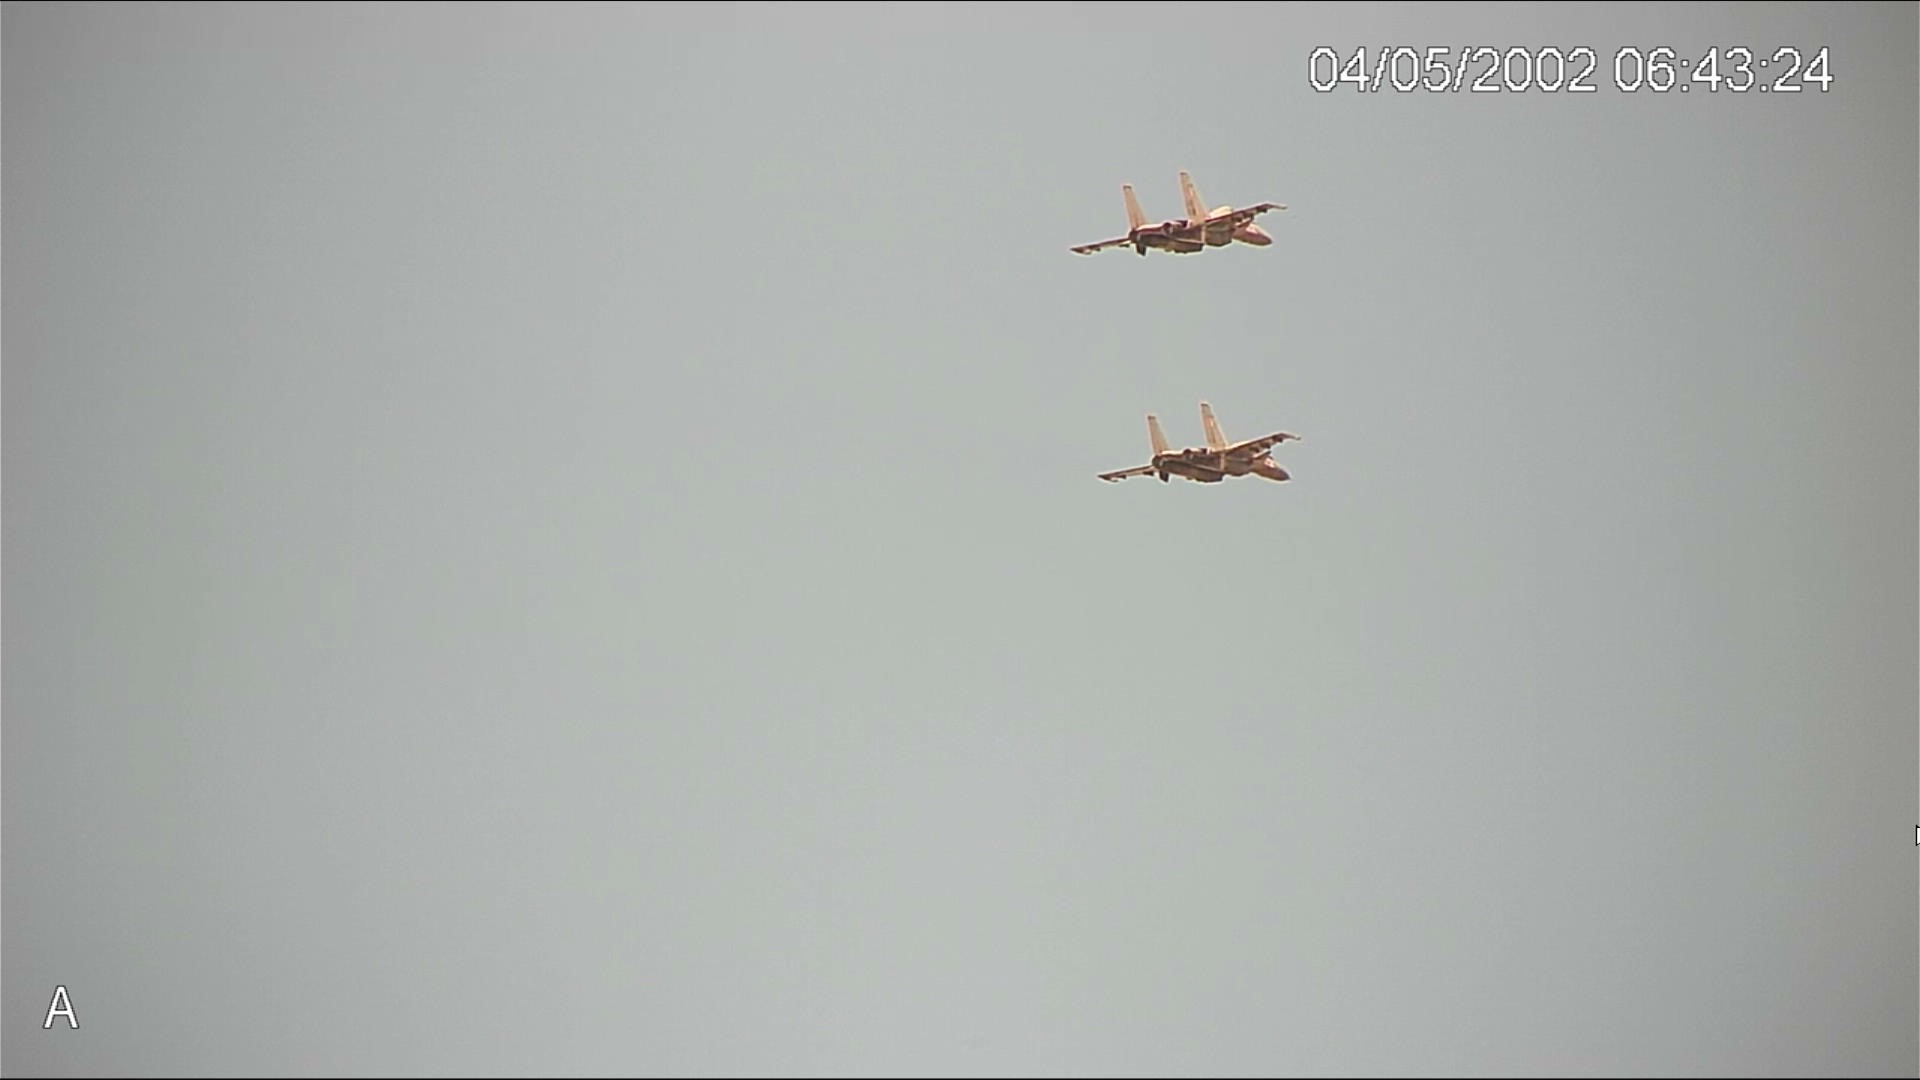SU_30: (1097, 396, 1305, 492), (1077, 173, 1282, 260)
